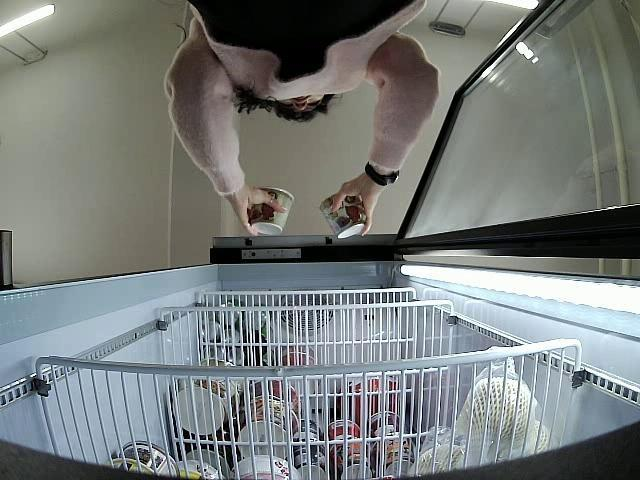04_chapagetti_S: (322, 194, 366, 241), (250, 185, 292, 234)
